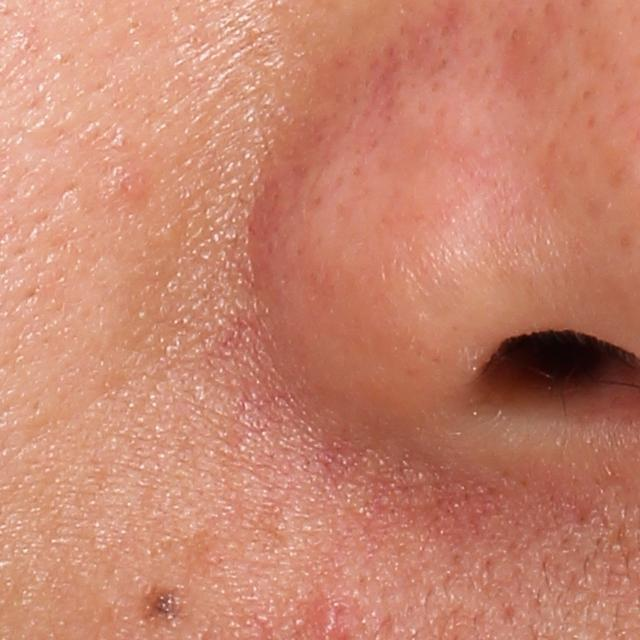nevus: (141, 583, 186, 620)
